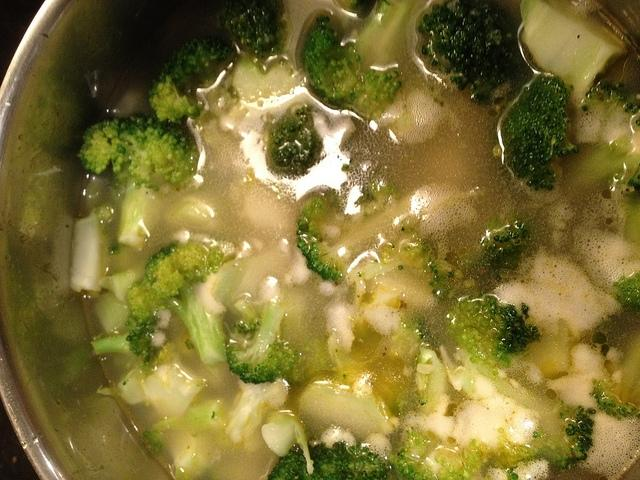broccoli: (78, 114, 201, 253), (301, 0, 419, 115), (128, 239, 234, 364), (297, 197, 412, 282), (418, 6, 516, 105), (499, 73, 578, 190), (444, 294, 543, 368), (147, 399, 244, 474), (456, 214, 532, 297), (496, 408, 598, 468), (226, 301, 298, 385), (582, 80, 638, 186), (260, 101, 326, 181), (346, 244, 430, 306), (266, 441, 396, 480), (589, 333, 640, 421), (222, 0, 288, 55), (148, 75, 200, 125), (614, 272, 640, 312), (429, 272, 454, 301), (628, 168, 640, 190)
cauliflower: (489, 242, 622, 340), (520, 0, 624, 104), (300, 385, 388, 452), (546, 343, 624, 414), (225, 375, 292, 444), (140, 364, 204, 418), (69, 212, 109, 294), (231, 56, 296, 102), (393, 93, 442, 145), (326, 301, 359, 358), (243, 198, 290, 231), (173, 230, 190, 244)
